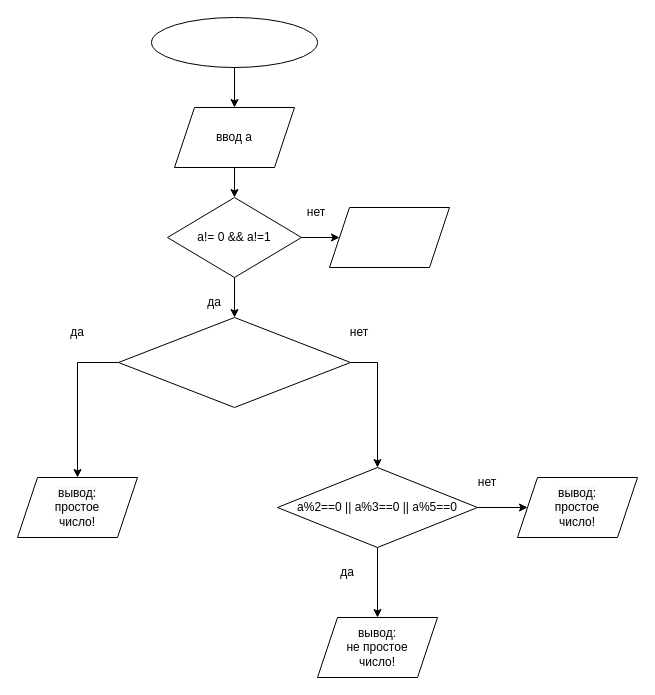
Some shapes in this 655 by 695 pixel diagram are drawn without their labels. The box of each missing label's shape, as (x1, y1, x2, y2) in pixels:
a==2 || a==3 || a==5: (118, 316, 350, 408)
вывод: исключение!: (328, 206, 450, 268)
начало: (150, 16, 318, 68)
